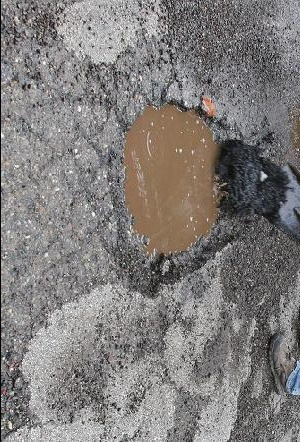pothole: (99, 94, 250, 300)
